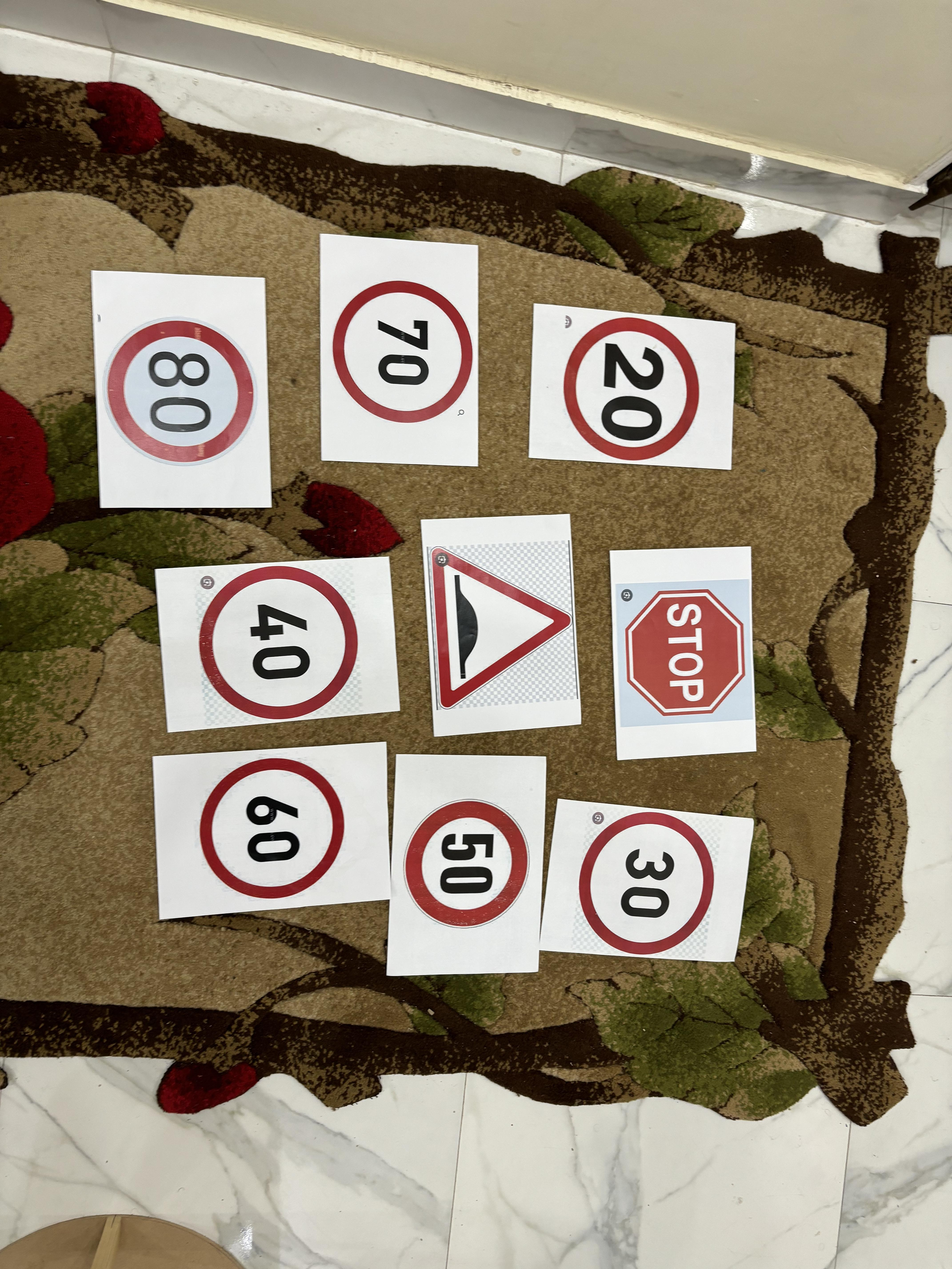20-Speed: (560, 311, 699, 468)
30-speed: (572, 809, 721, 950)
40-Speed: (196, 565, 354, 730)
50-Speed: (403, 787, 536, 941)
60-Speed: (194, 756, 349, 906)
70-Speed: (332, 267, 481, 433)
80-Speed: (103, 314, 262, 467)
Hump: (427, 545, 570, 709)
Stop: (618, 569, 746, 728)
